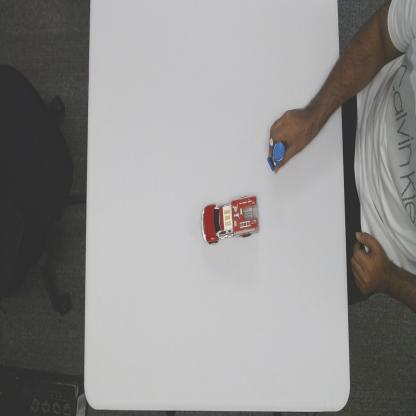Arm: (308, 57, 340, 134)
Firetruck: (200, 191, 261, 247)
Hand: (266, 107, 306, 175)
